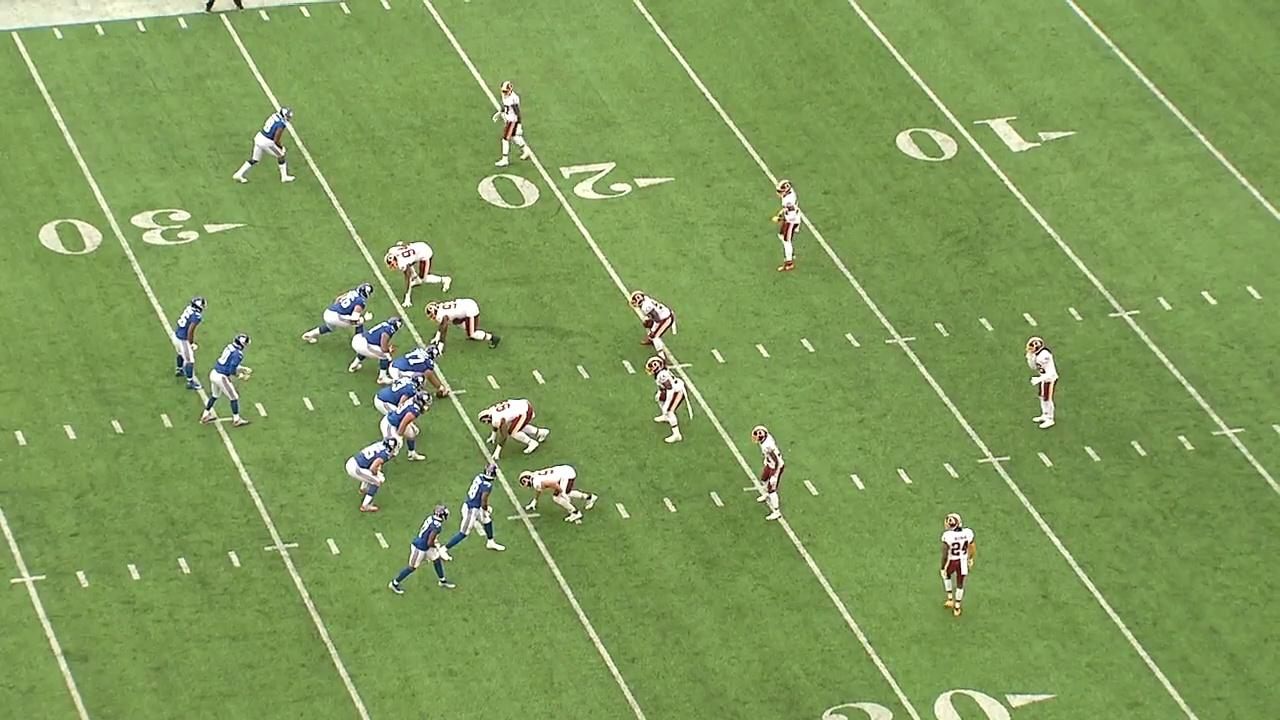defense: (476, 391, 549, 462), (518, 465, 601, 525), (641, 353, 694, 444), (387, 239, 453, 310), (425, 295, 501, 356), (935, 514, 977, 620), (495, 79, 530, 170), (1028, 333, 1059, 431), (753, 426, 781, 522), (631, 290, 678, 347), (776, 178, 804, 271)
oline: (297, 282, 375, 343), (378, 392, 432, 460), (349, 316, 404, 377), (389, 337, 443, 390), (376, 374, 426, 417)
qb: (202, 332, 252, 426)
skill: (438, 464, 507, 563), (385, 507, 460, 598), (233, 103, 299, 185), (342, 435, 399, 520), (171, 296, 207, 394)
